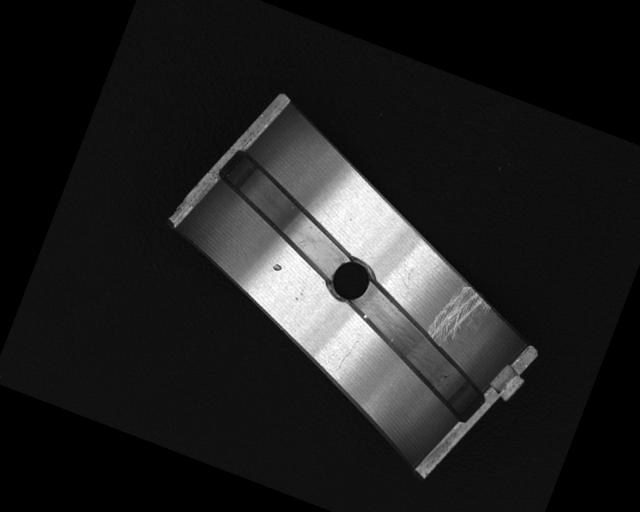bruise: (269, 260, 283, 274)
gap: (325, 279, 505, 425), (201, 148, 370, 279)
hole: (325, 254, 375, 308)
nick: (334, 337, 358, 377)
scratch: (424, 277, 493, 356)
